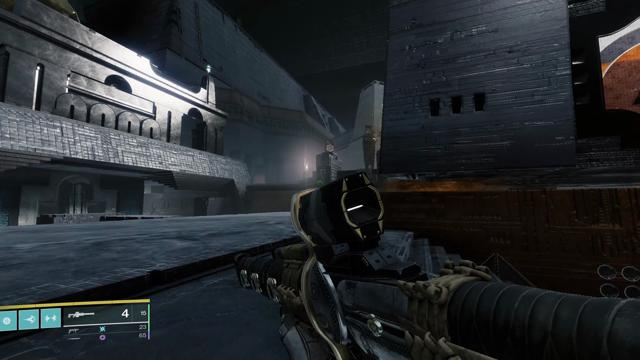pyramid: (598, 16, 640, 117)
